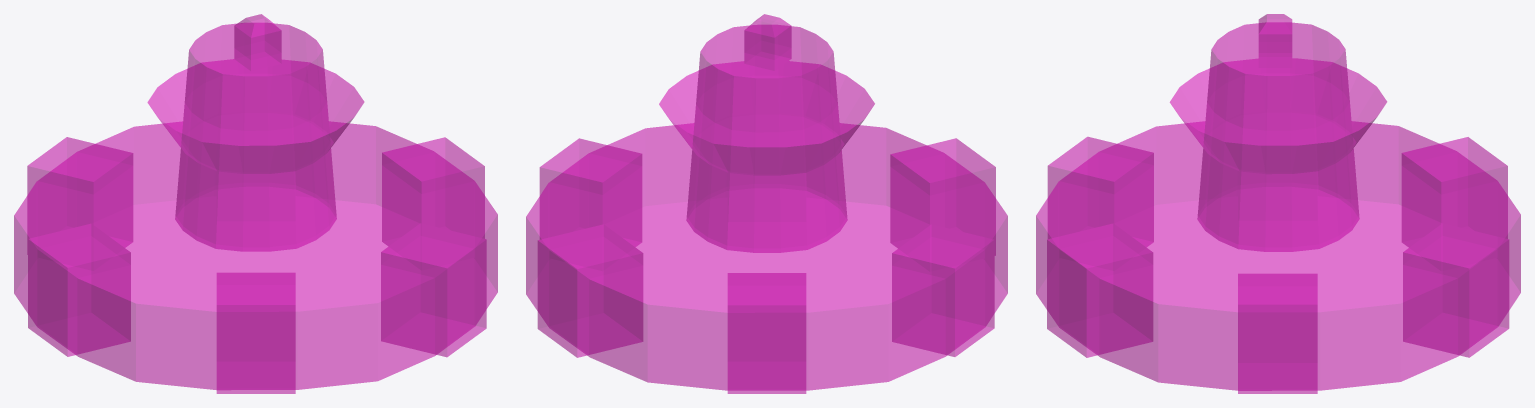
The model's file is SM_Prop_Fountain_01_Collision.fbx.
3 views of the same model, side by side, from view 1: azimuth 30°, elevation 25°; view 2: azimuth 150°, elevation 25°; view 3: azimuth 270°, elevation 25° (orthographic).
Parts seen in each view (by area): view 1: SM_Prop_Fountain_01_Collision; view 2: SM_Prop_Fountain_01_Collision; view 3: SM_Prop_Fountain_01_Collision.
Boxes of the visible parts, x1,y1,x2,y2 form: SM_Prop_Fountain_01_Collision: (14, 14, 497, 393); SM_Prop_Fountain_01_Collision: (526, 14, 1007, 393); SM_Prop_Fountain_01_Collision: (1036, 14, 1520, 393).
Bounding box in the file's own units: 466 × 294 × 468.
